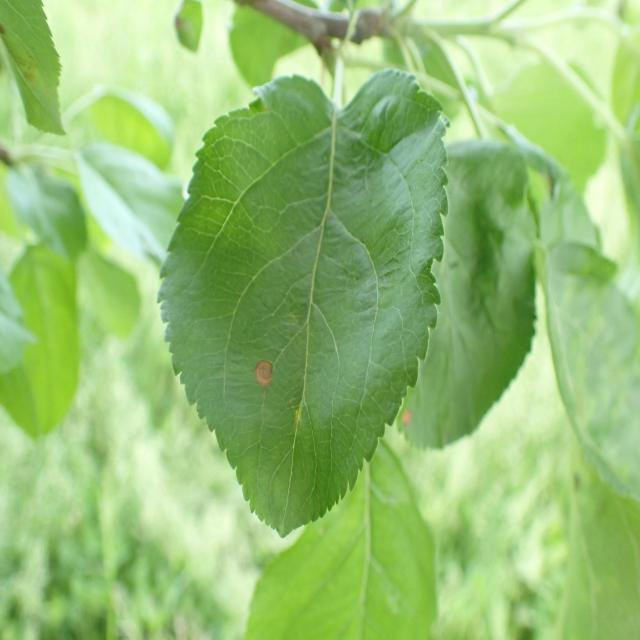frog-eye-leaf-spot: (157, 66, 451, 539)
